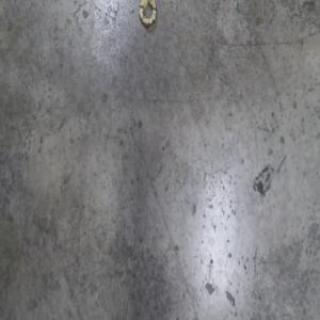Nuttrack_idkeyframe: (137, 0, 156, 31)
